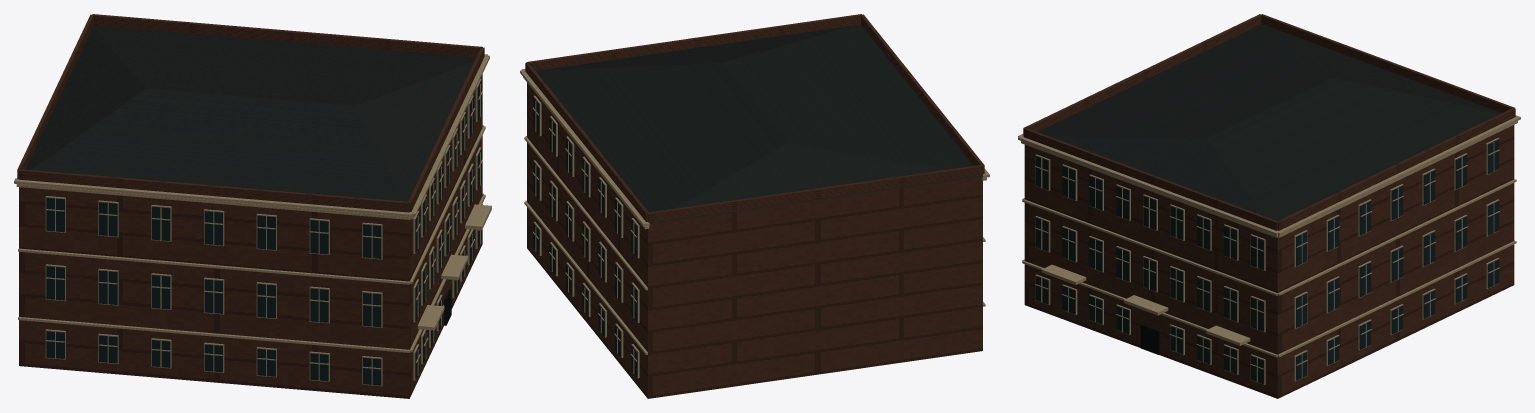
3 renders of one model, left to right at view 1: azimuth 30°, elevation 25°; view 2: azimuth 150°, elevation 25°; view 3: azimuth 270°, elevation 25°, orthographic. The views are drawn at different scales.
Visible parts, largest first — view 1: rotterdamsche-bank-boompjes-0, rotterdamsche-bank-boompjes-1, rotterdamsche-bank-boompjes-2, rotterdamsche-bank-boompjes-3; view 2: rotterdamsche-bank-boompjes-0, rotterdamsche-bank-boompjes-1, rotterdamsche-bank-boompjes-2, rotterdamsche-bank-boompjes-3; view 3: rotterdamsche-bank-boompjes-0, rotterdamsche-bank-boompjes-1, rotterdamsche-bank-boompjes-2, rotterdamsche-bank-boompjes-3, rotterdamsche-bank-boompjes-4.
Boxes of the visible parts, x1=… form: rotterdamsche-bank-boompjes-0: x1=17, y1=14, x2=484, y2=398; rotterdamsche-bank-boompjes-1: x1=25, y1=25, x2=475, y2=201; rotterdamsche-bank-boompjes-2: x1=14, y1=54, x2=491, y2=386; rotterdamsche-bank-boompjes-3: x1=46, y1=80, x2=481, y2=385; rotterdamsche-bank-boompjes-0: x1=525, y1=14, x2=984, y2=398; rotterdamsche-bank-boompjes-1: x1=536, y1=25, x2=982, y2=223; rotterdamsche-bank-boompjes-2: x1=520, y1=69, x2=989, y2=378; rotterdamsche-bank-boompjes-3: x1=533, y1=97, x2=637, y2=377; rotterdamsche-bank-boompjes-0: x1=1023, y1=14, x2=1515, y2=398; rotterdamsche-bank-boompjes-1: x1=1037, y1=24, x2=1501, y2=221; rotterdamsche-bank-boompjes-2: x1=1018, y1=115, x2=1520, y2=384; rotterdamsche-bank-boompjes-3: x1=1035, y1=139, x2=1499, y2=384; rotterdamsche-bank-boompjes-4: x1=1140, y1=324, x2=1159, y2=354.
Bounding box in the file's own units: 46.47 × 19 × 46.3.
5 materials, 5 textured.
